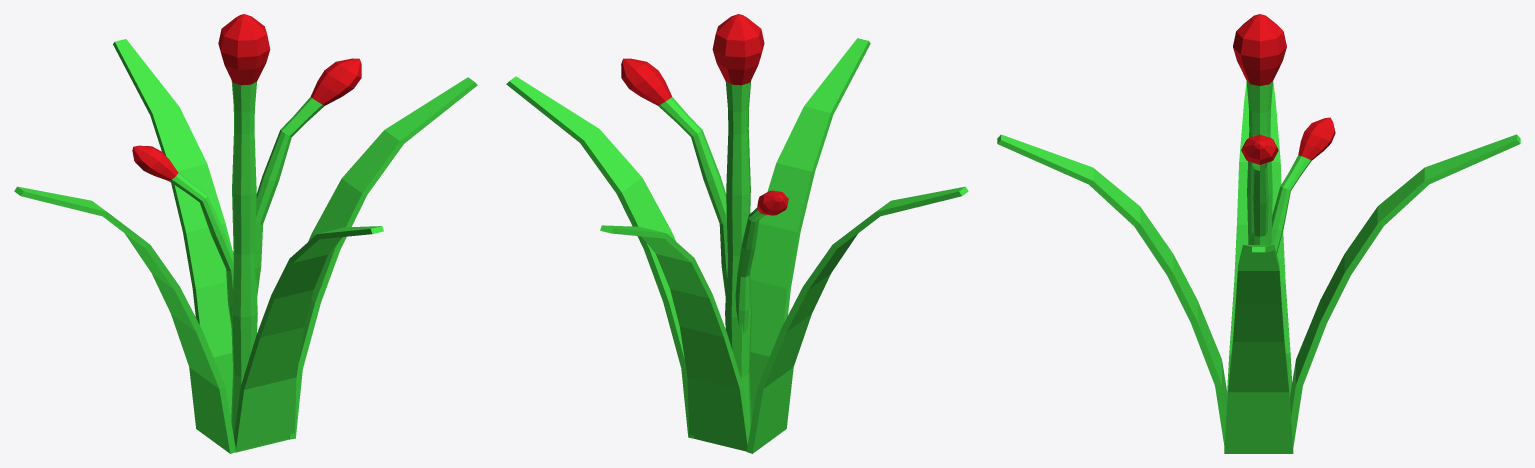
The model's file is Plant.gltf.
3 renders of one model, left to right at view 1: azimuth 30°, elevation 25°; view 2: azimuth 150°, elevation 25°; view 3: azimuth 270°, elevation 25°, orthographic.
Visible parts, largest first — view 1: Plant; view 2: Plant; view 3: Plant.
Part boxes in pixels (x1,y1,x2,y2): Plant: (14,14,477,453); Plant: (506,14,968,453); Plant: (997,14,1520,453).
Bounding box in the file's own units: 75.28 × 66.16 × 74.08.
